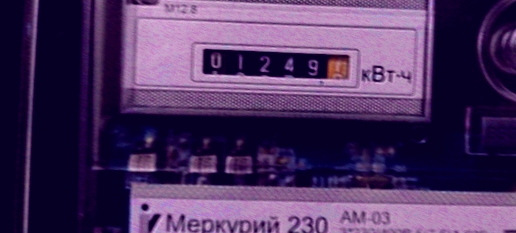0: (207, 50, 222, 71)
1: (232, 52, 244, 72)
2: (256, 55, 271, 76)
4: (281, 56, 294, 76)
7: (330, 55, 343, 75)
9: (304, 58, 319, 80)
screen: (180, 35, 359, 95)
